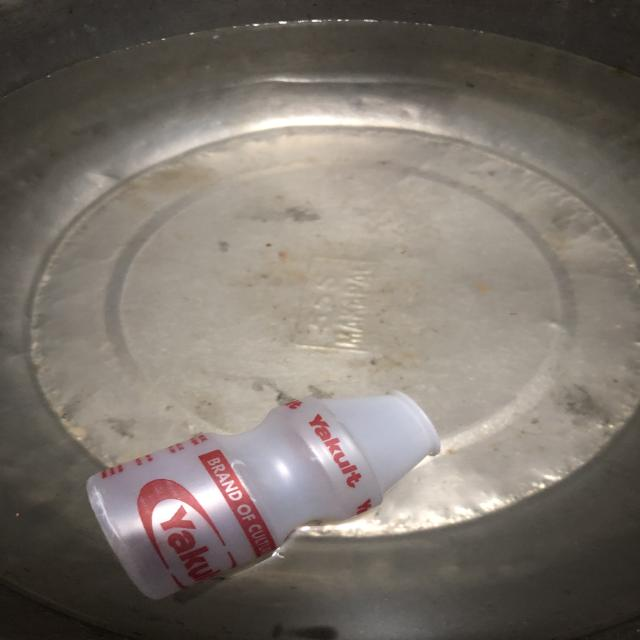Plastic Bottle: (76, 386, 452, 607)
